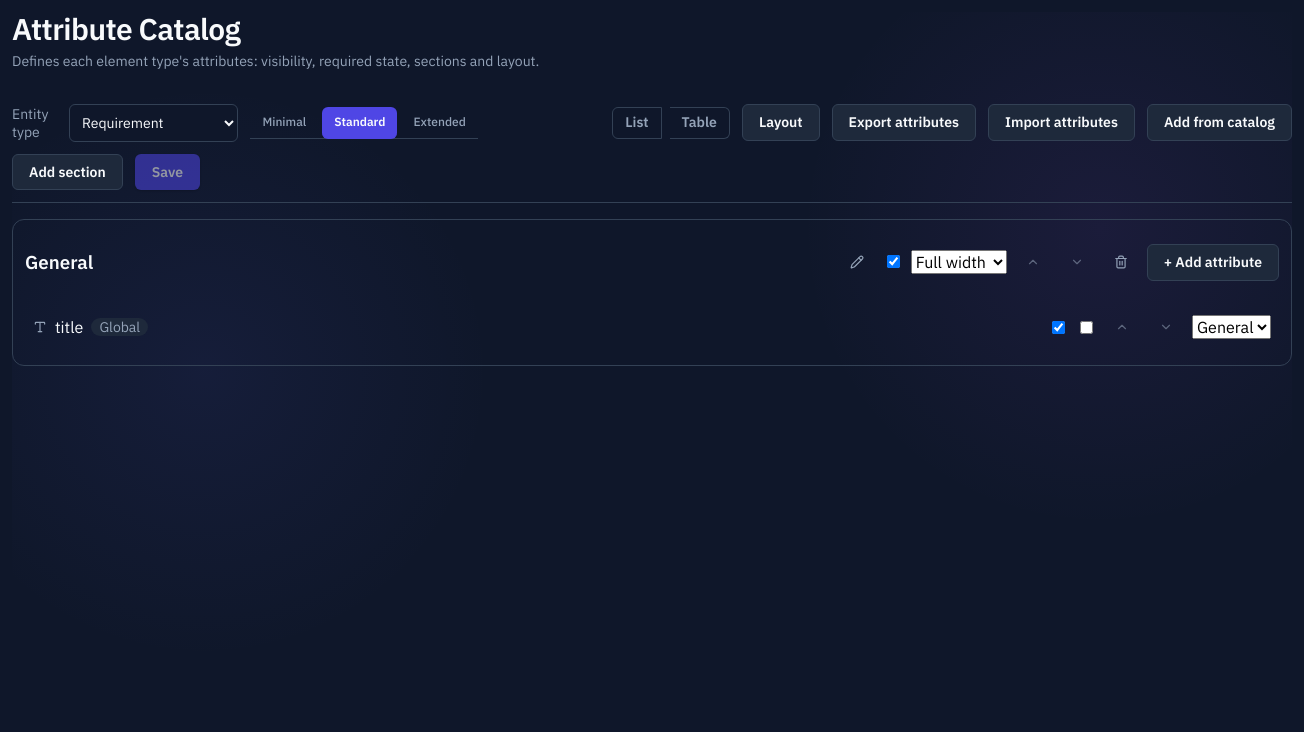
Test: AttributeEditorPage › reads and writes the global default in global scope
Click the button with test id "attribute-row-title". click: [120, 327]
box: left=25, top=301, right=1279, bottom=353
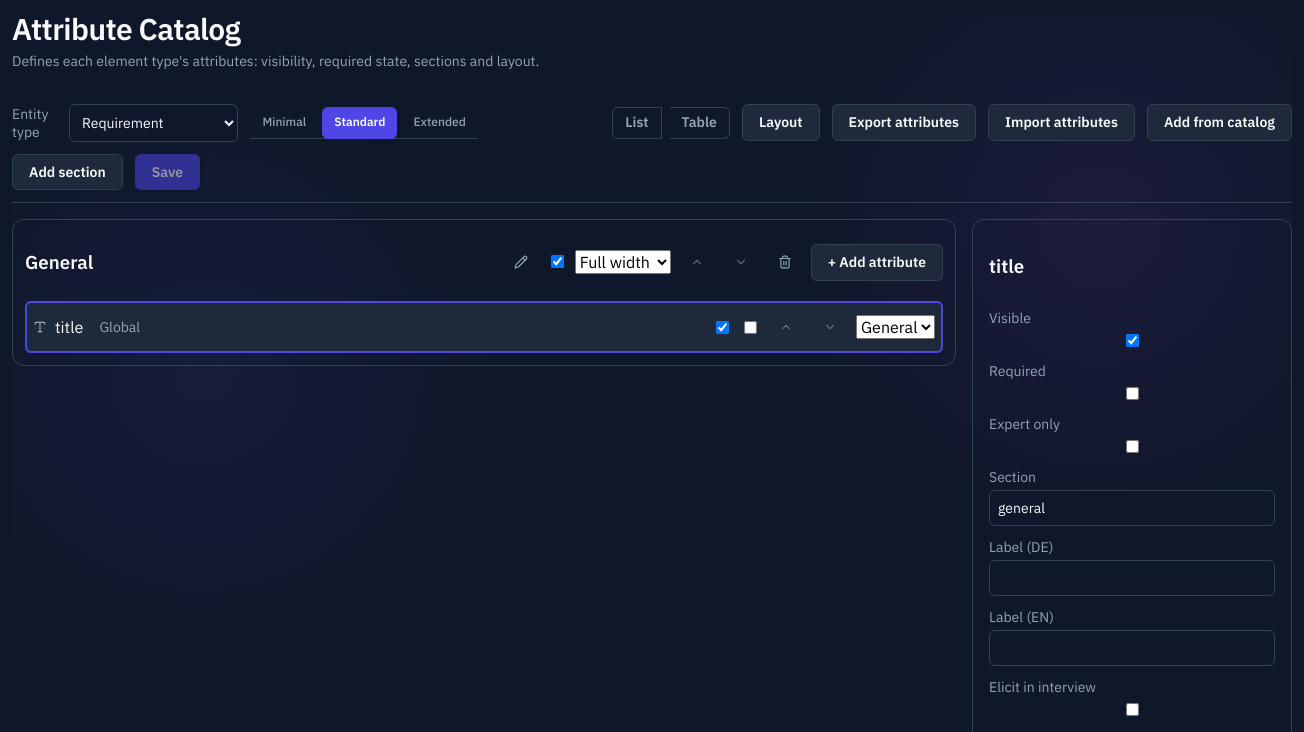
Click the checkbox with test id "attribute-inspector-audience". click: [1132, 447]
box: left=993, top=440, right=1272, bottom=453
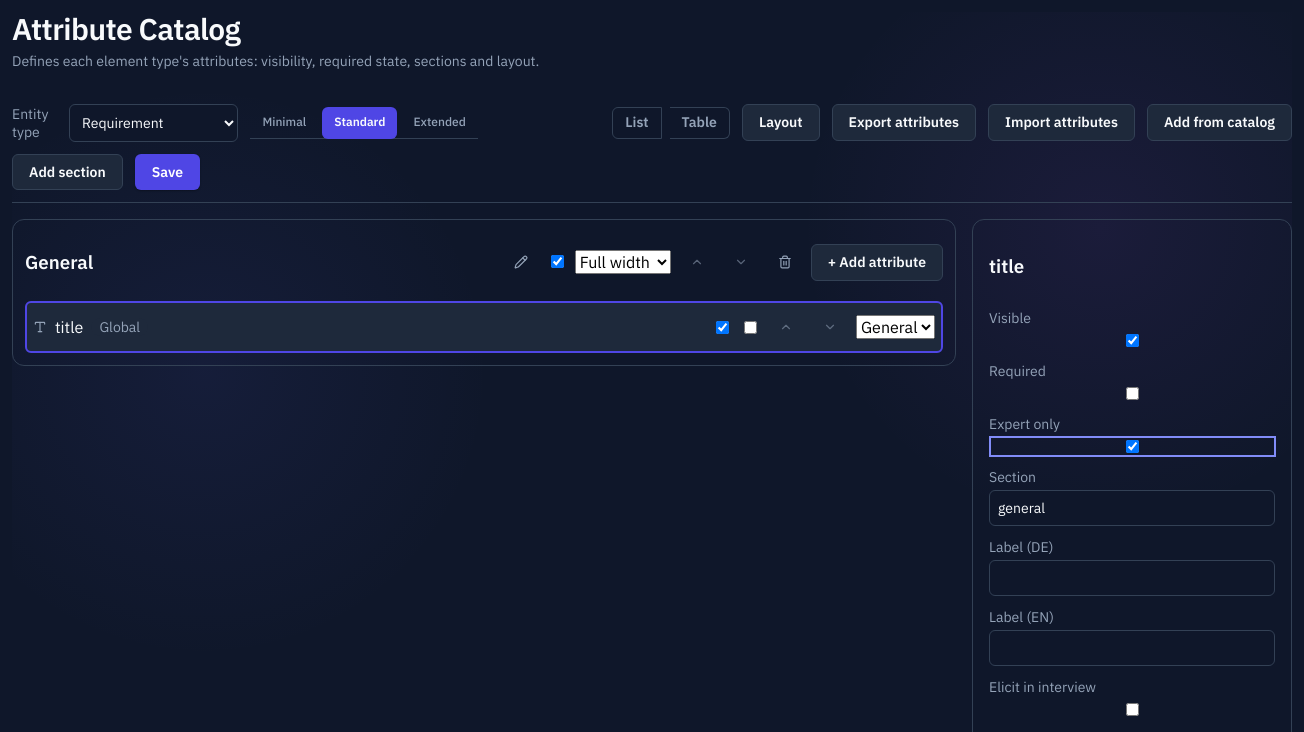
Click the button with test id "attribute-editor-save". click: [167, 172]
box: left=135, top=154, right=200, bottom=190
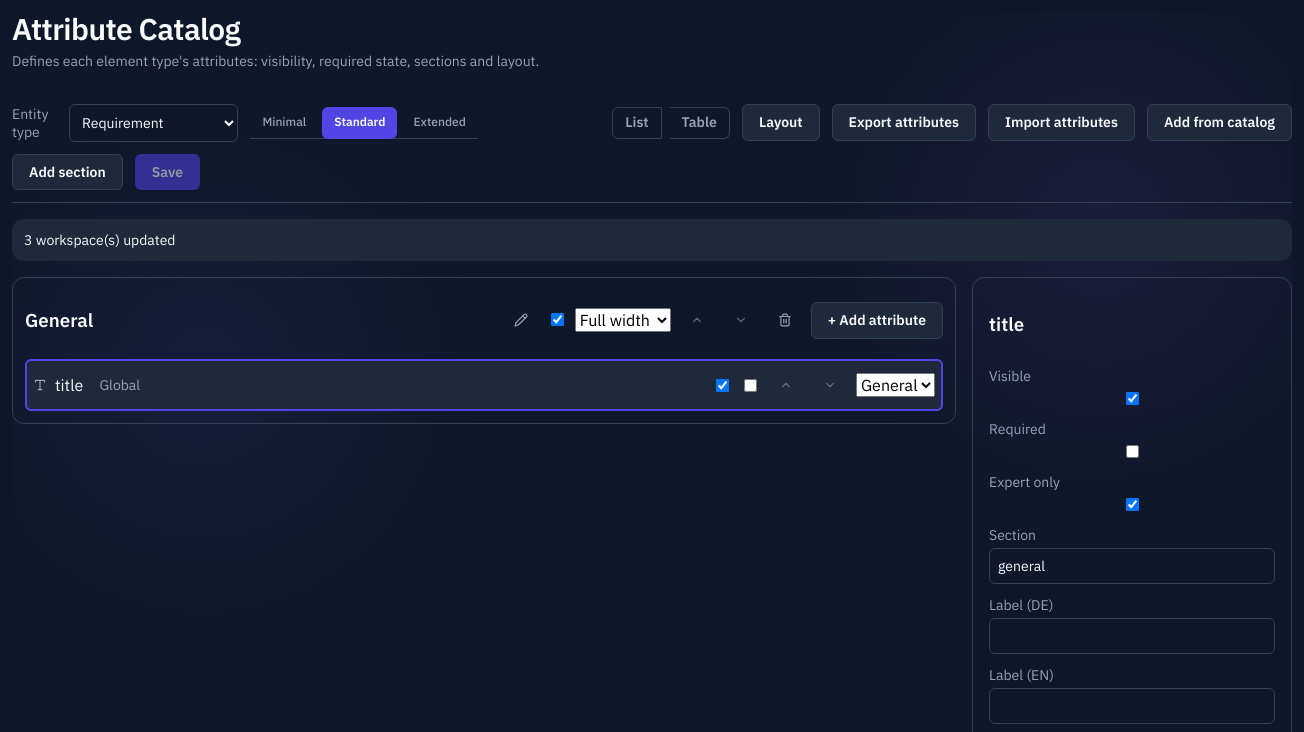
Expected: the element with test id "attribute-editor-toast" shows "3", left=24, top=231, right=176, bottom=249
